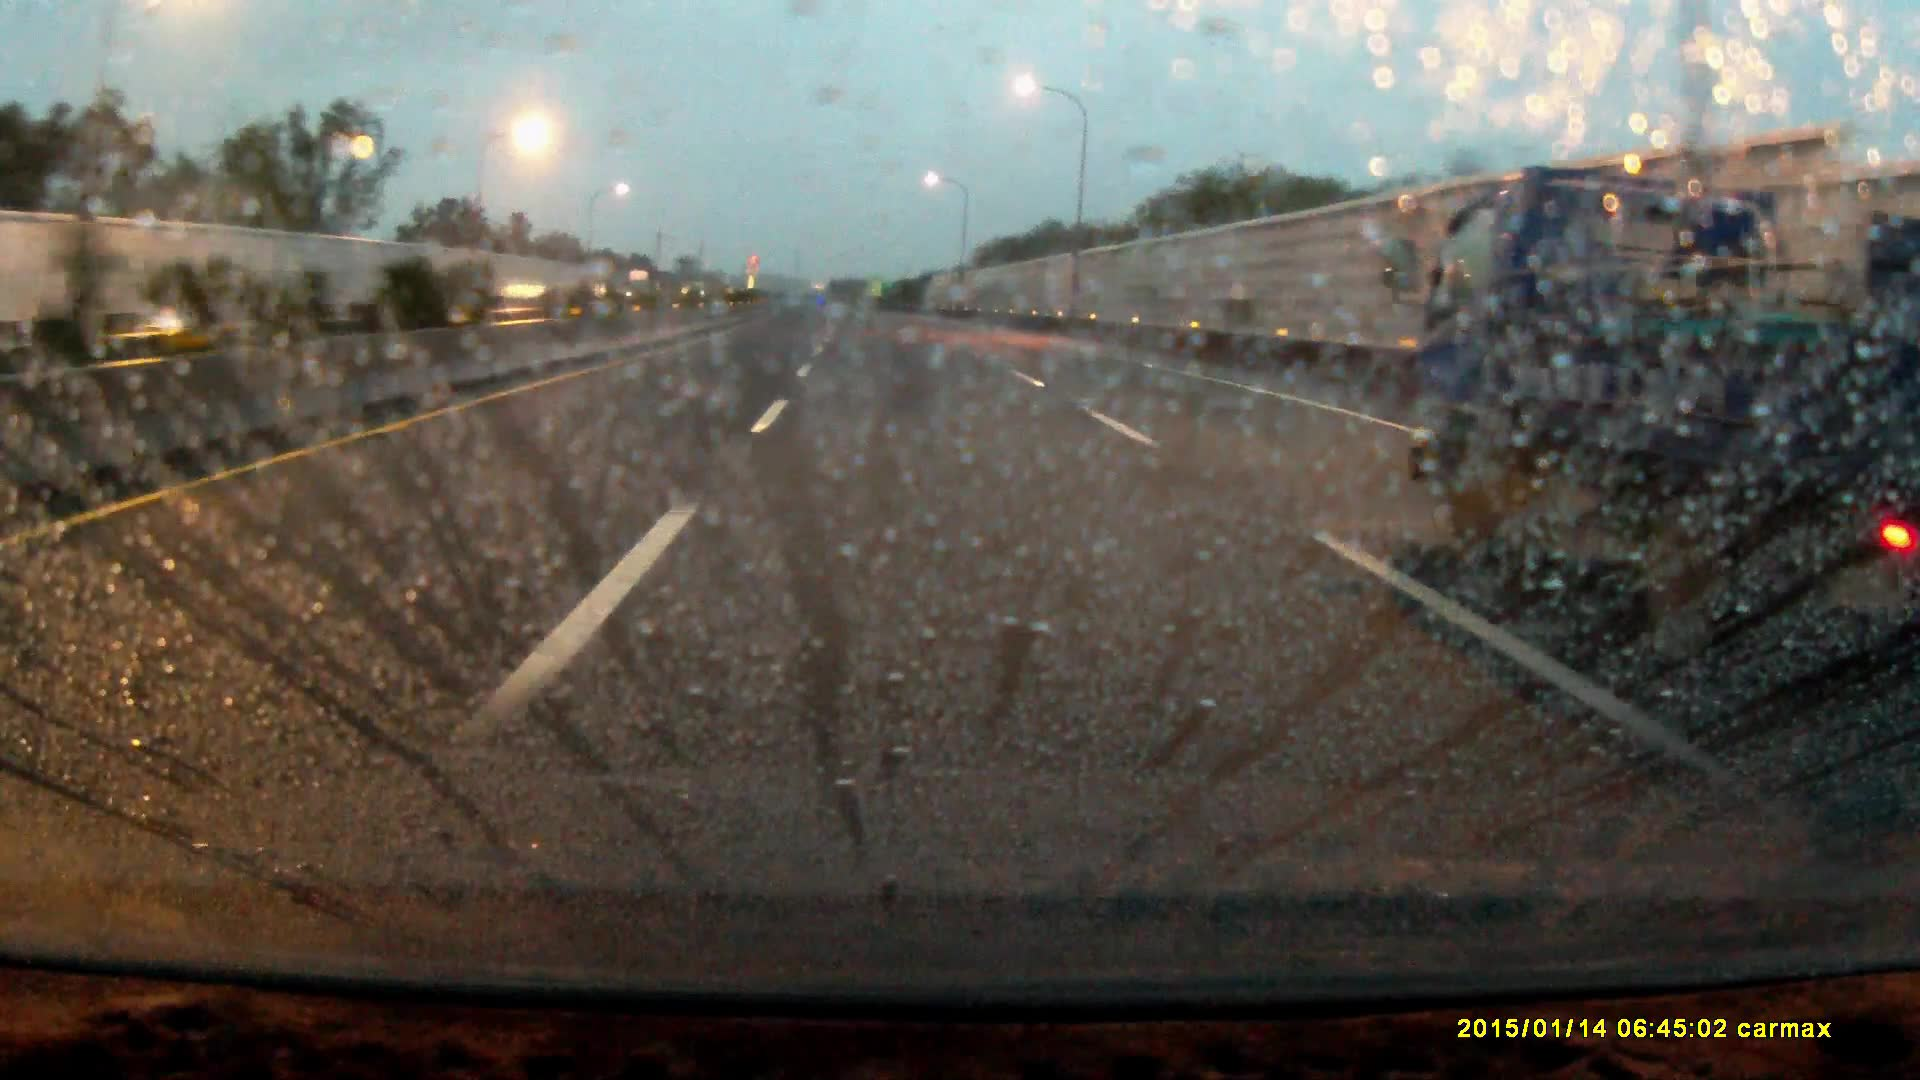vehicle: (1404, 169, 1920, 616), (129, 272, 270, 339), (626, 268, 658, 302)
